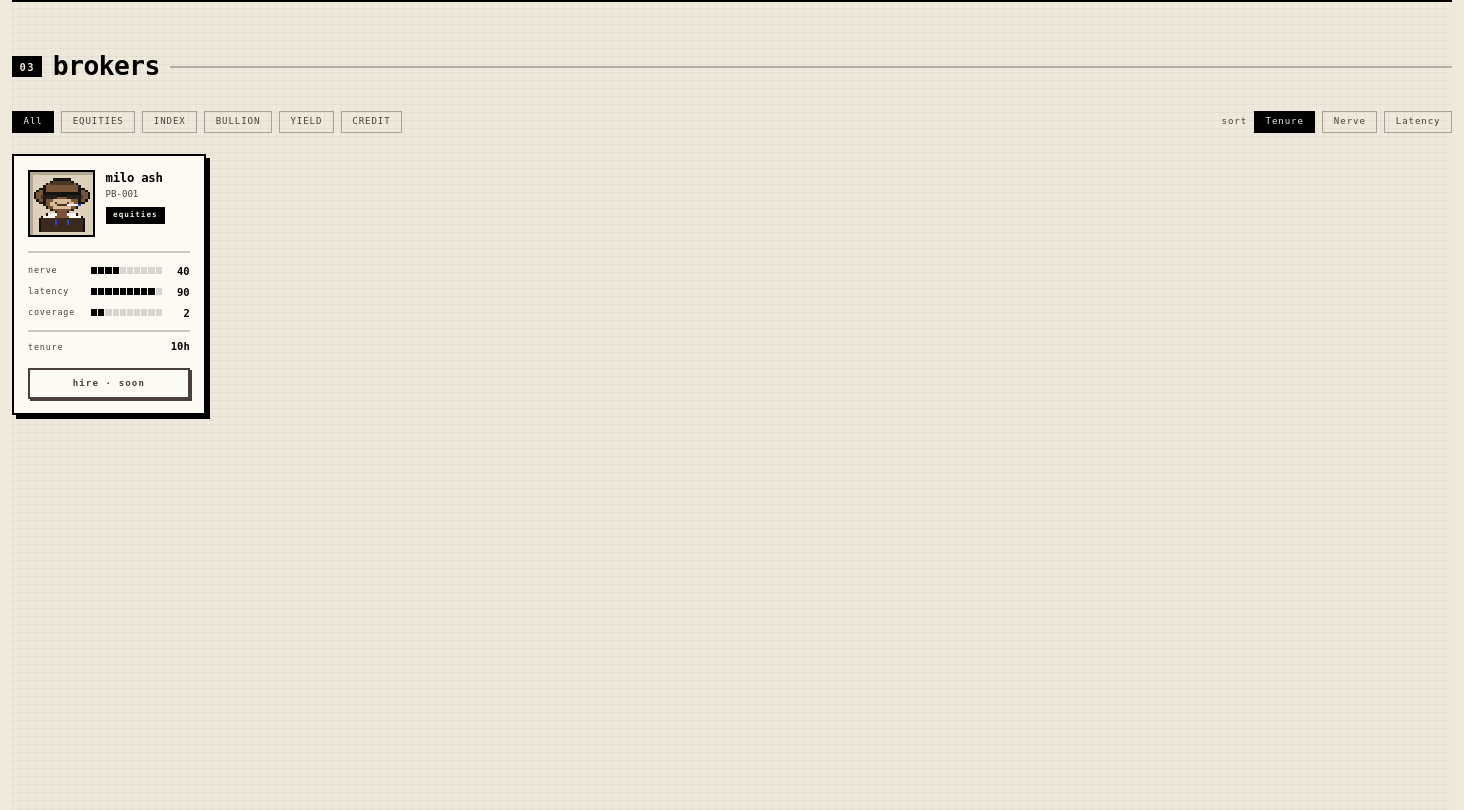
Roster › says so plainly when a filter matches nothing
The image size is (1464, 810).
Click the button "BULLION". click: [238, 122]
box: left=204, top=110, right=272, bottom=133
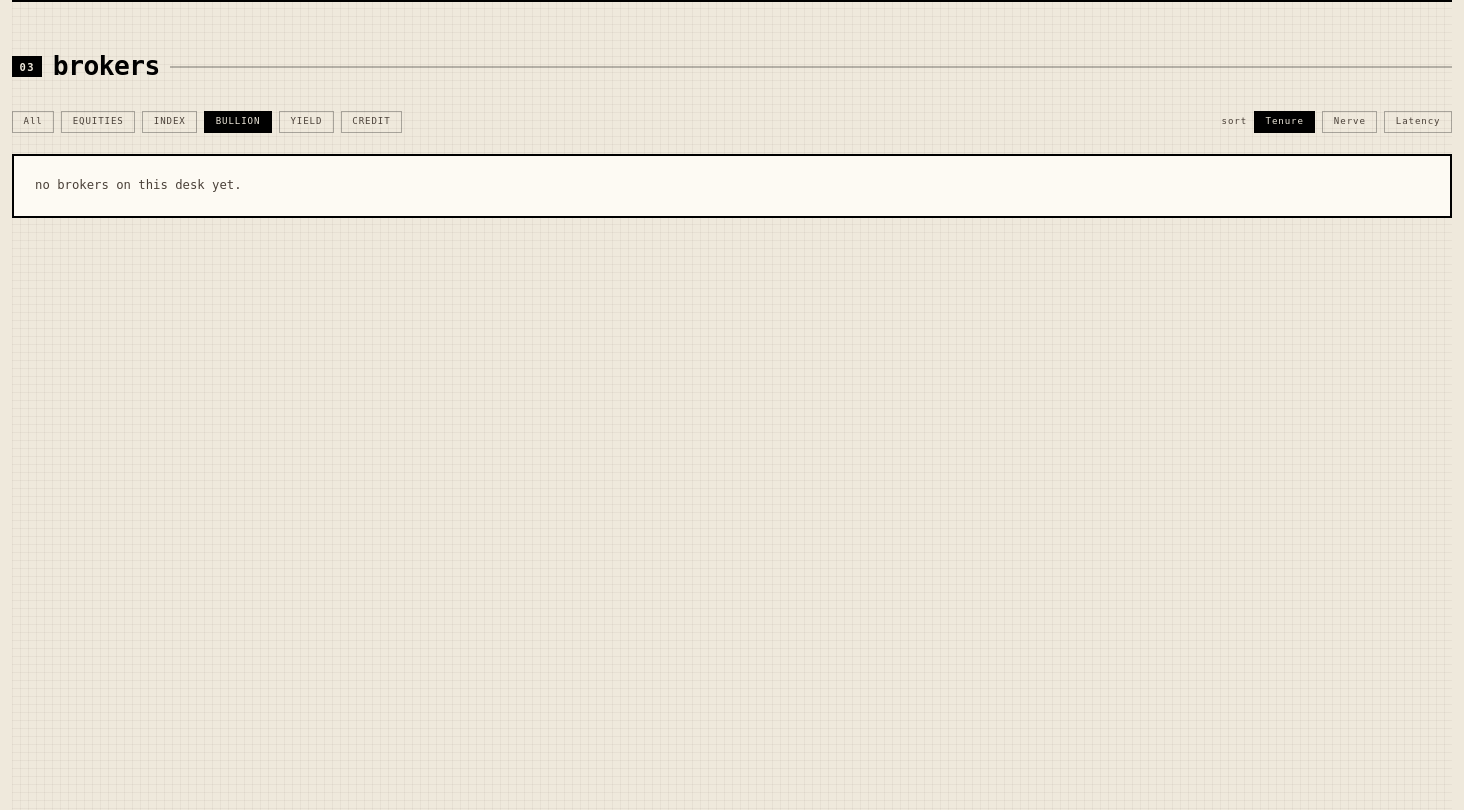
Expected: the text "No brokers on this desk yet." is shown, left=12, top=154, right=1452, bottom=218
